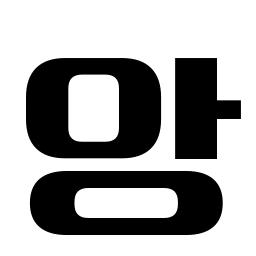Gaji: (166, 86, 233, 137)
